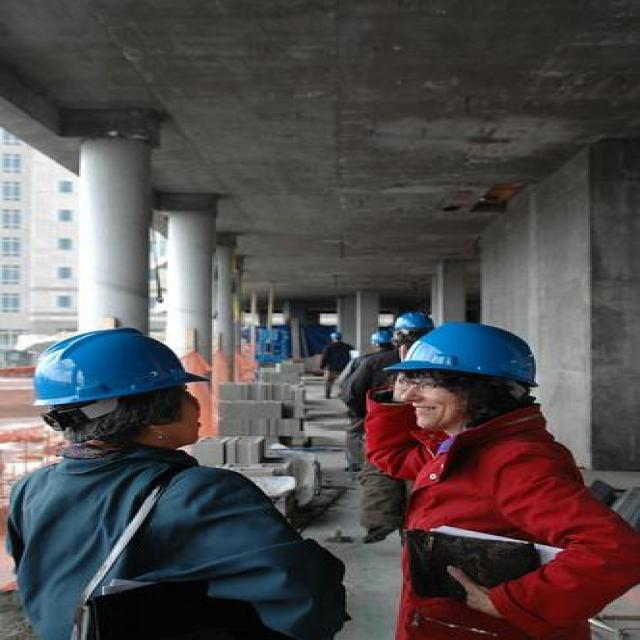safety_helmet: (19, 327, 212, 411), (374, 316, 555, 396), (385, 308, 439, 335), (327, 325, 345, 344)
